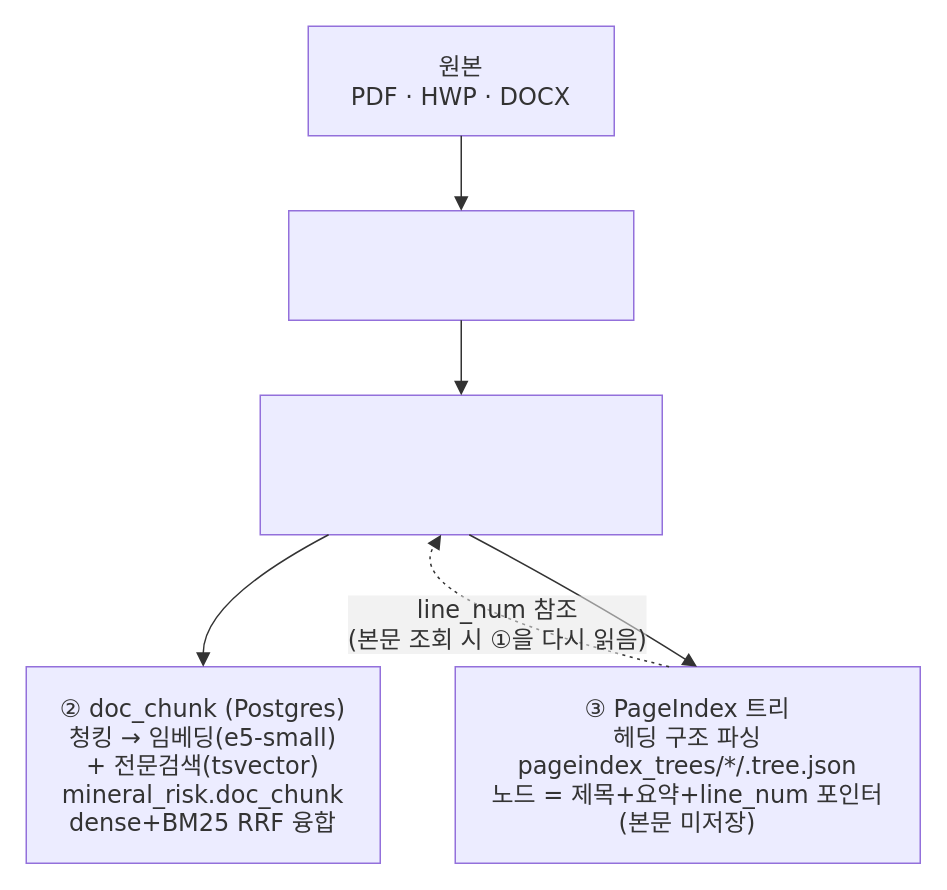
The diagram is 947 pixels wide and 890 high, and some of its shapes have lost their labels. The box of each missing label's shape, as (x1, y1, x2, y2) in pixels:
① OKF 텍스트 okf_documents/*/.md YAML 프론트매터 + 마크다운: (259, 394, 662, 535)
파서 (opendataloader-pdf 등): (287, 209, 634, 320)
